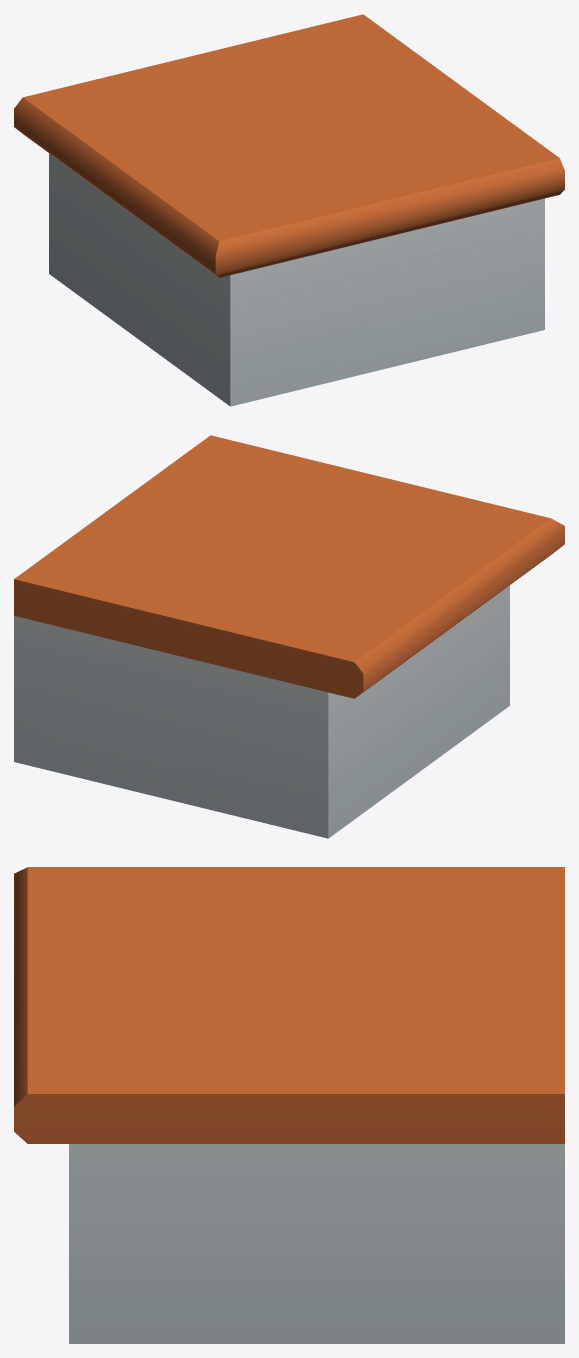
File: kaykit-restaurant-bits-kitchencounter-outercorner.glb
3 views of the same model, one above another, from view 1: azimuth 30°, elevation 25°; view 2: azimuth 150°, elevation 25°; view 3: azimuth 270°, elevation 25° (orthographic). The views are drawn at different scales.
Parts seen in each view (by area): view 1: kitchencounter_outercorner; view 2: kitchencounter_outercorner; view 3: kitchencounter_outercorner.
Part boxes in pixels (x1,y1,x2,y2): kitchencounter_outercorner: (14,14,564,406); kitchencounter_outercorner: (14,435,564,838); kitchencounter_outercorner: (14,867,564,1343).
Bounding box in the file's own units: 2 × 1 × 2.
1 material, 1 textured.
